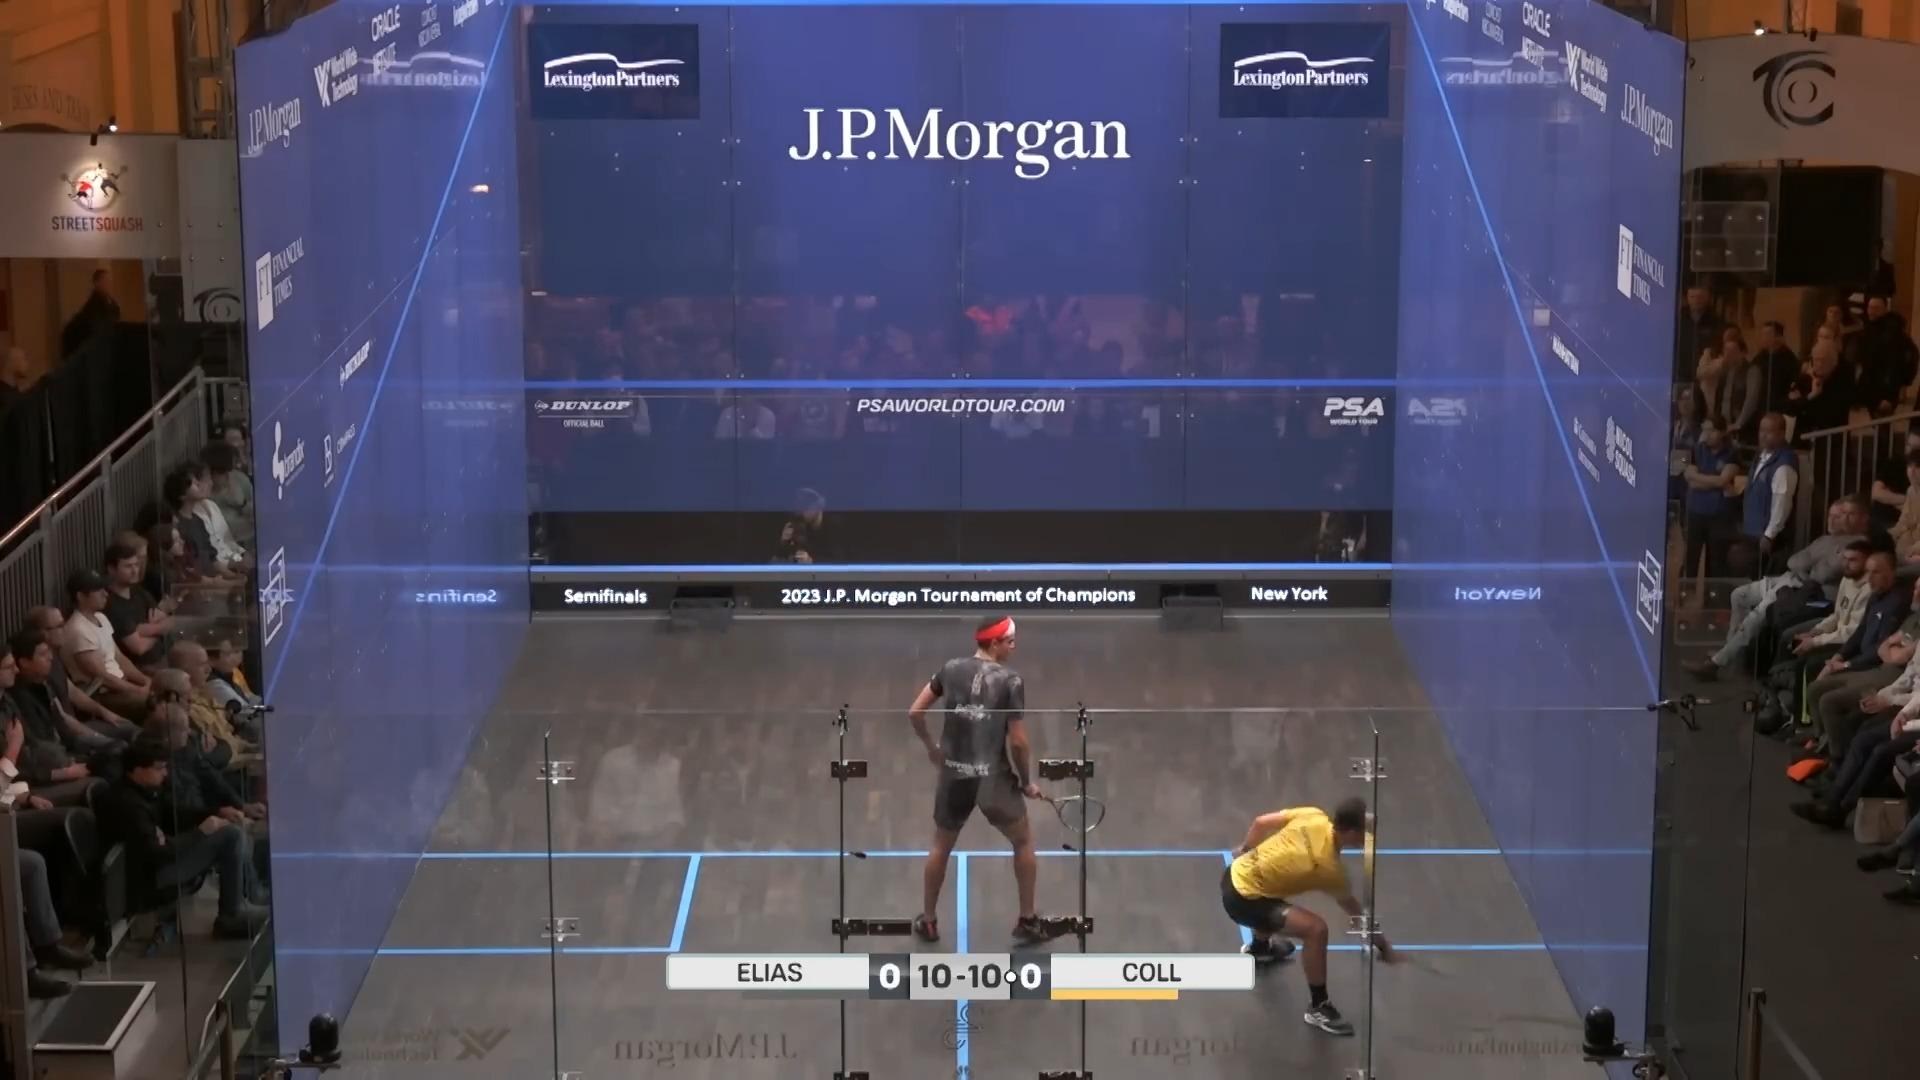Racket: (1018, 785, 1113, 836)
